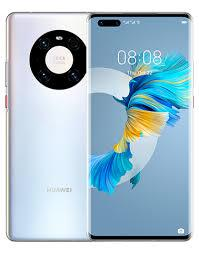Smartphone: (95, 14, 191, 238), (10, 15, 90, 240)
